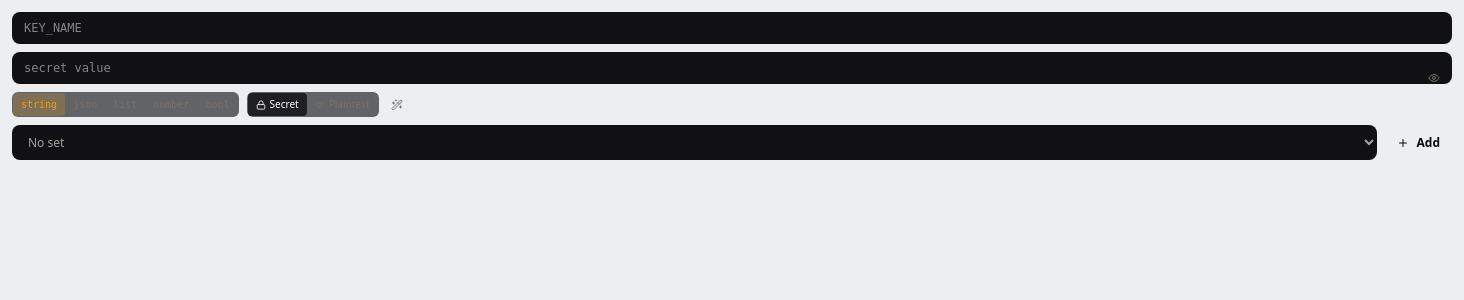
it: VariableQuickAddForm — secret generator › fills and reveals the value input when Generate is clicked
Click the button named "Generate value" at (397, 104), box [387,94,407,114]
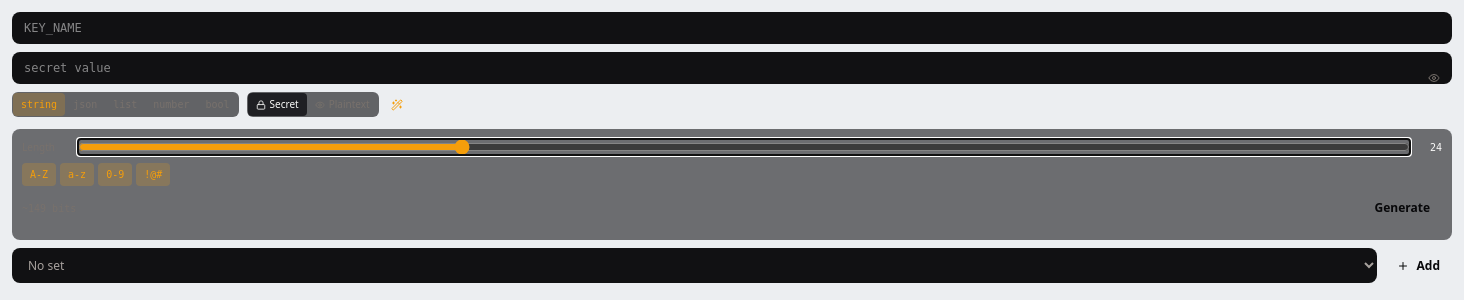
Click the button "Generate" at (1402, 208), box [1362,194,1442,222]
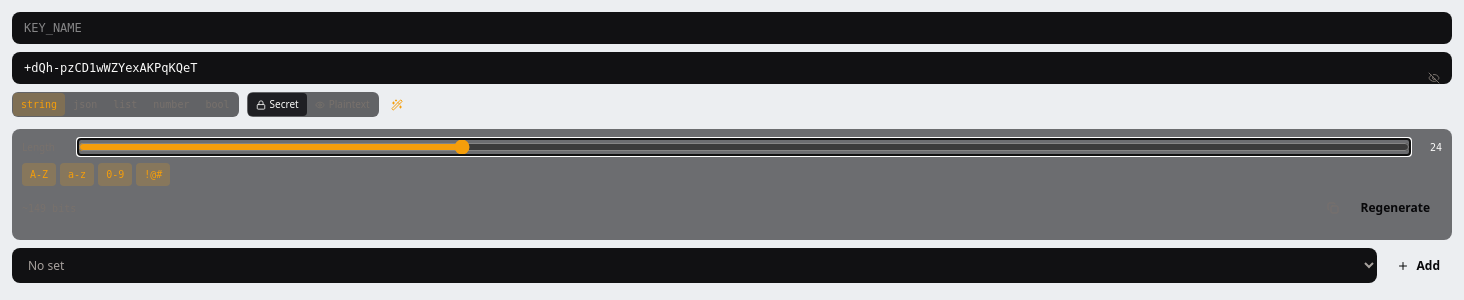
Now the field with placeholder "secret value" shows its text, box [12,52,1452,84]
